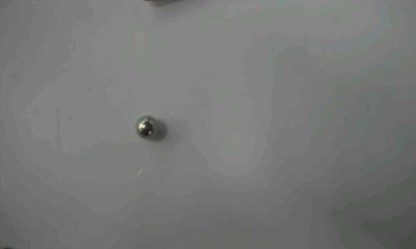ironball: (135, 114, 158, 138)
